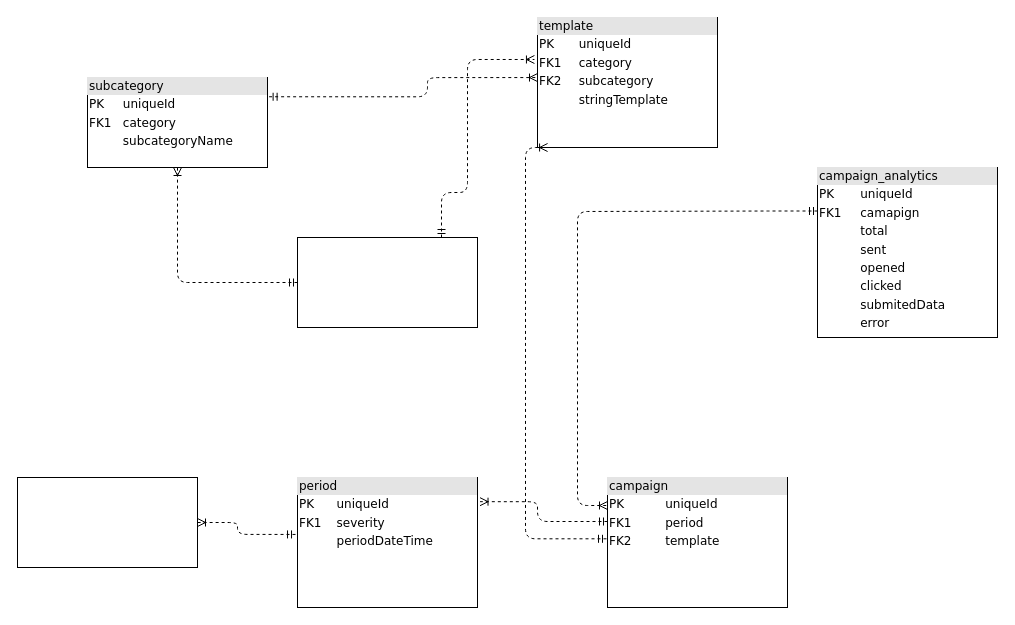
Image size: 1015x625. Some labels were removed from this diagram. Here are the shapes that lost their labels. From the top down, the centre of each, then its label:
point 387,282: category PK uniqueId categoryName
point 107,522: severity PK uniqueId severityLevel
